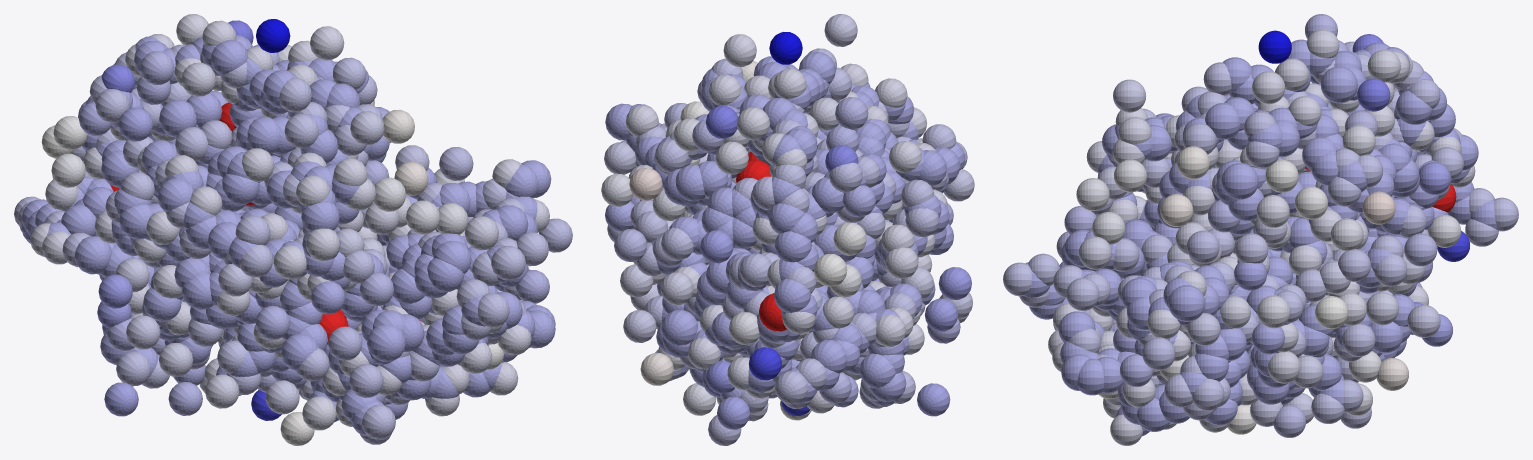
The model's file is 1lyz__spheres__b-factor.glb.
3 views of the same model, side by side, from view 1: azimuth 30°, elevation 25°; view 2: azimuth 150°, elevation 25°; view 3: azimuth 270°, elevation 25° (orthographic). The views are drawn at different scales.
Visible parts, largest first — view 1: Renderer Node; view 2: Renderer Node; view 3: Renderer Node.
Part boxes in pixels (x1,y1,x2,y2): Renderer Node: (14, 14, 572, 445); Renderer Node: (601, 14, 974, 445); Renderer Node: (1003, 14, 1518, 445).
Size of the model in its own units: 42.59 by 40.17 by 47.23.
